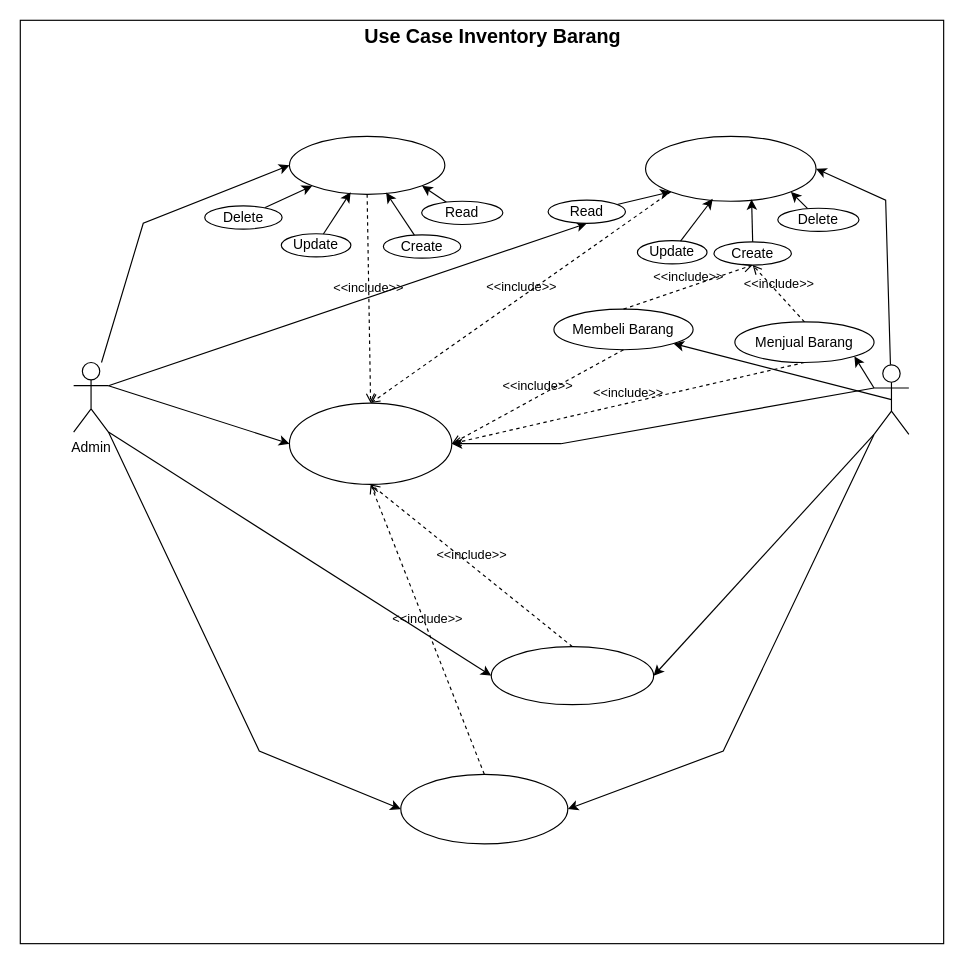
Some shapes in this 964 by 964 pixel diagram are drawn without their labels. Here are the shapes that lost their labels. From the top down, the centre of each, then its label:
At [366,164]: "Mengelola akun user".
At [730,168]: "Mengelola data barang".
At [891,399]: "User".
At [370,443]: "Login".
At [572,675]: "Melihat data transaksi".
At [484,808]: "Mencetak Data Barang / Transaksi".
